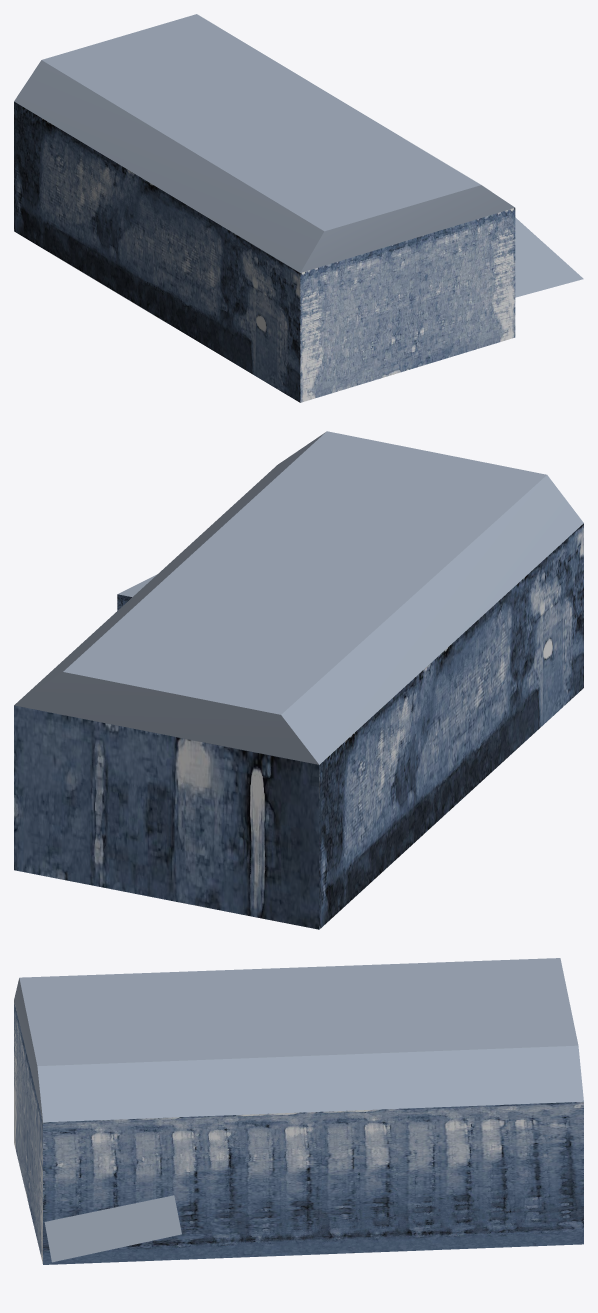
The model's file is Walter-Frenzel-Bau.gltf.
3 views of the same model, one above another, from view 1: azimuth 30°, elevation 25°; view 2: azimuth 150°, elevation 25°; view 3: azimuth 270°, elevation 25° (orthographic). The views are drawn at different scales.
Visible parts, largest first — view 1: Dach.1; view 2: Dach.1; view 3: Dach.1.
Part boxes in pixels (x1=…): Dach.1: x1=14, y1=14, x2=583, y2=402; Dach.1: x1=14, y1=431, x2=583, y2=929; Dach.1: x1=14, y1=958, x2=583, y2=1264.
Bounding box in the file's own units: 30.12 × 13.85 × 39.83.
6 materials, 5 textured.
